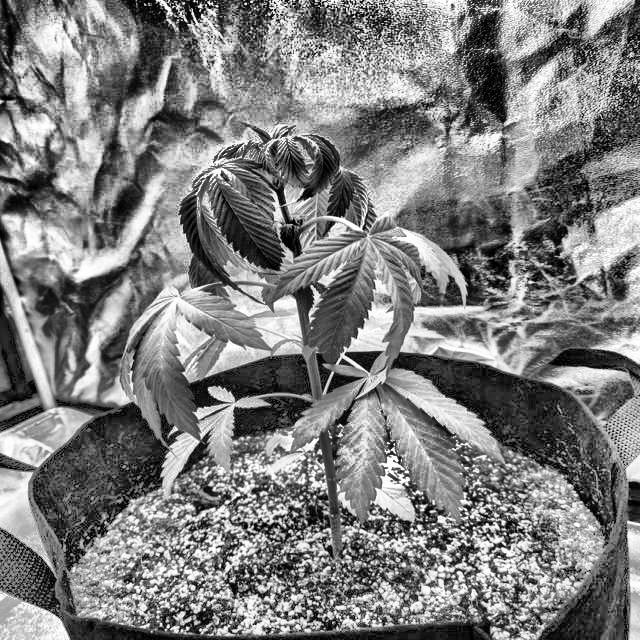plants: (96, 109, 528, 612)
